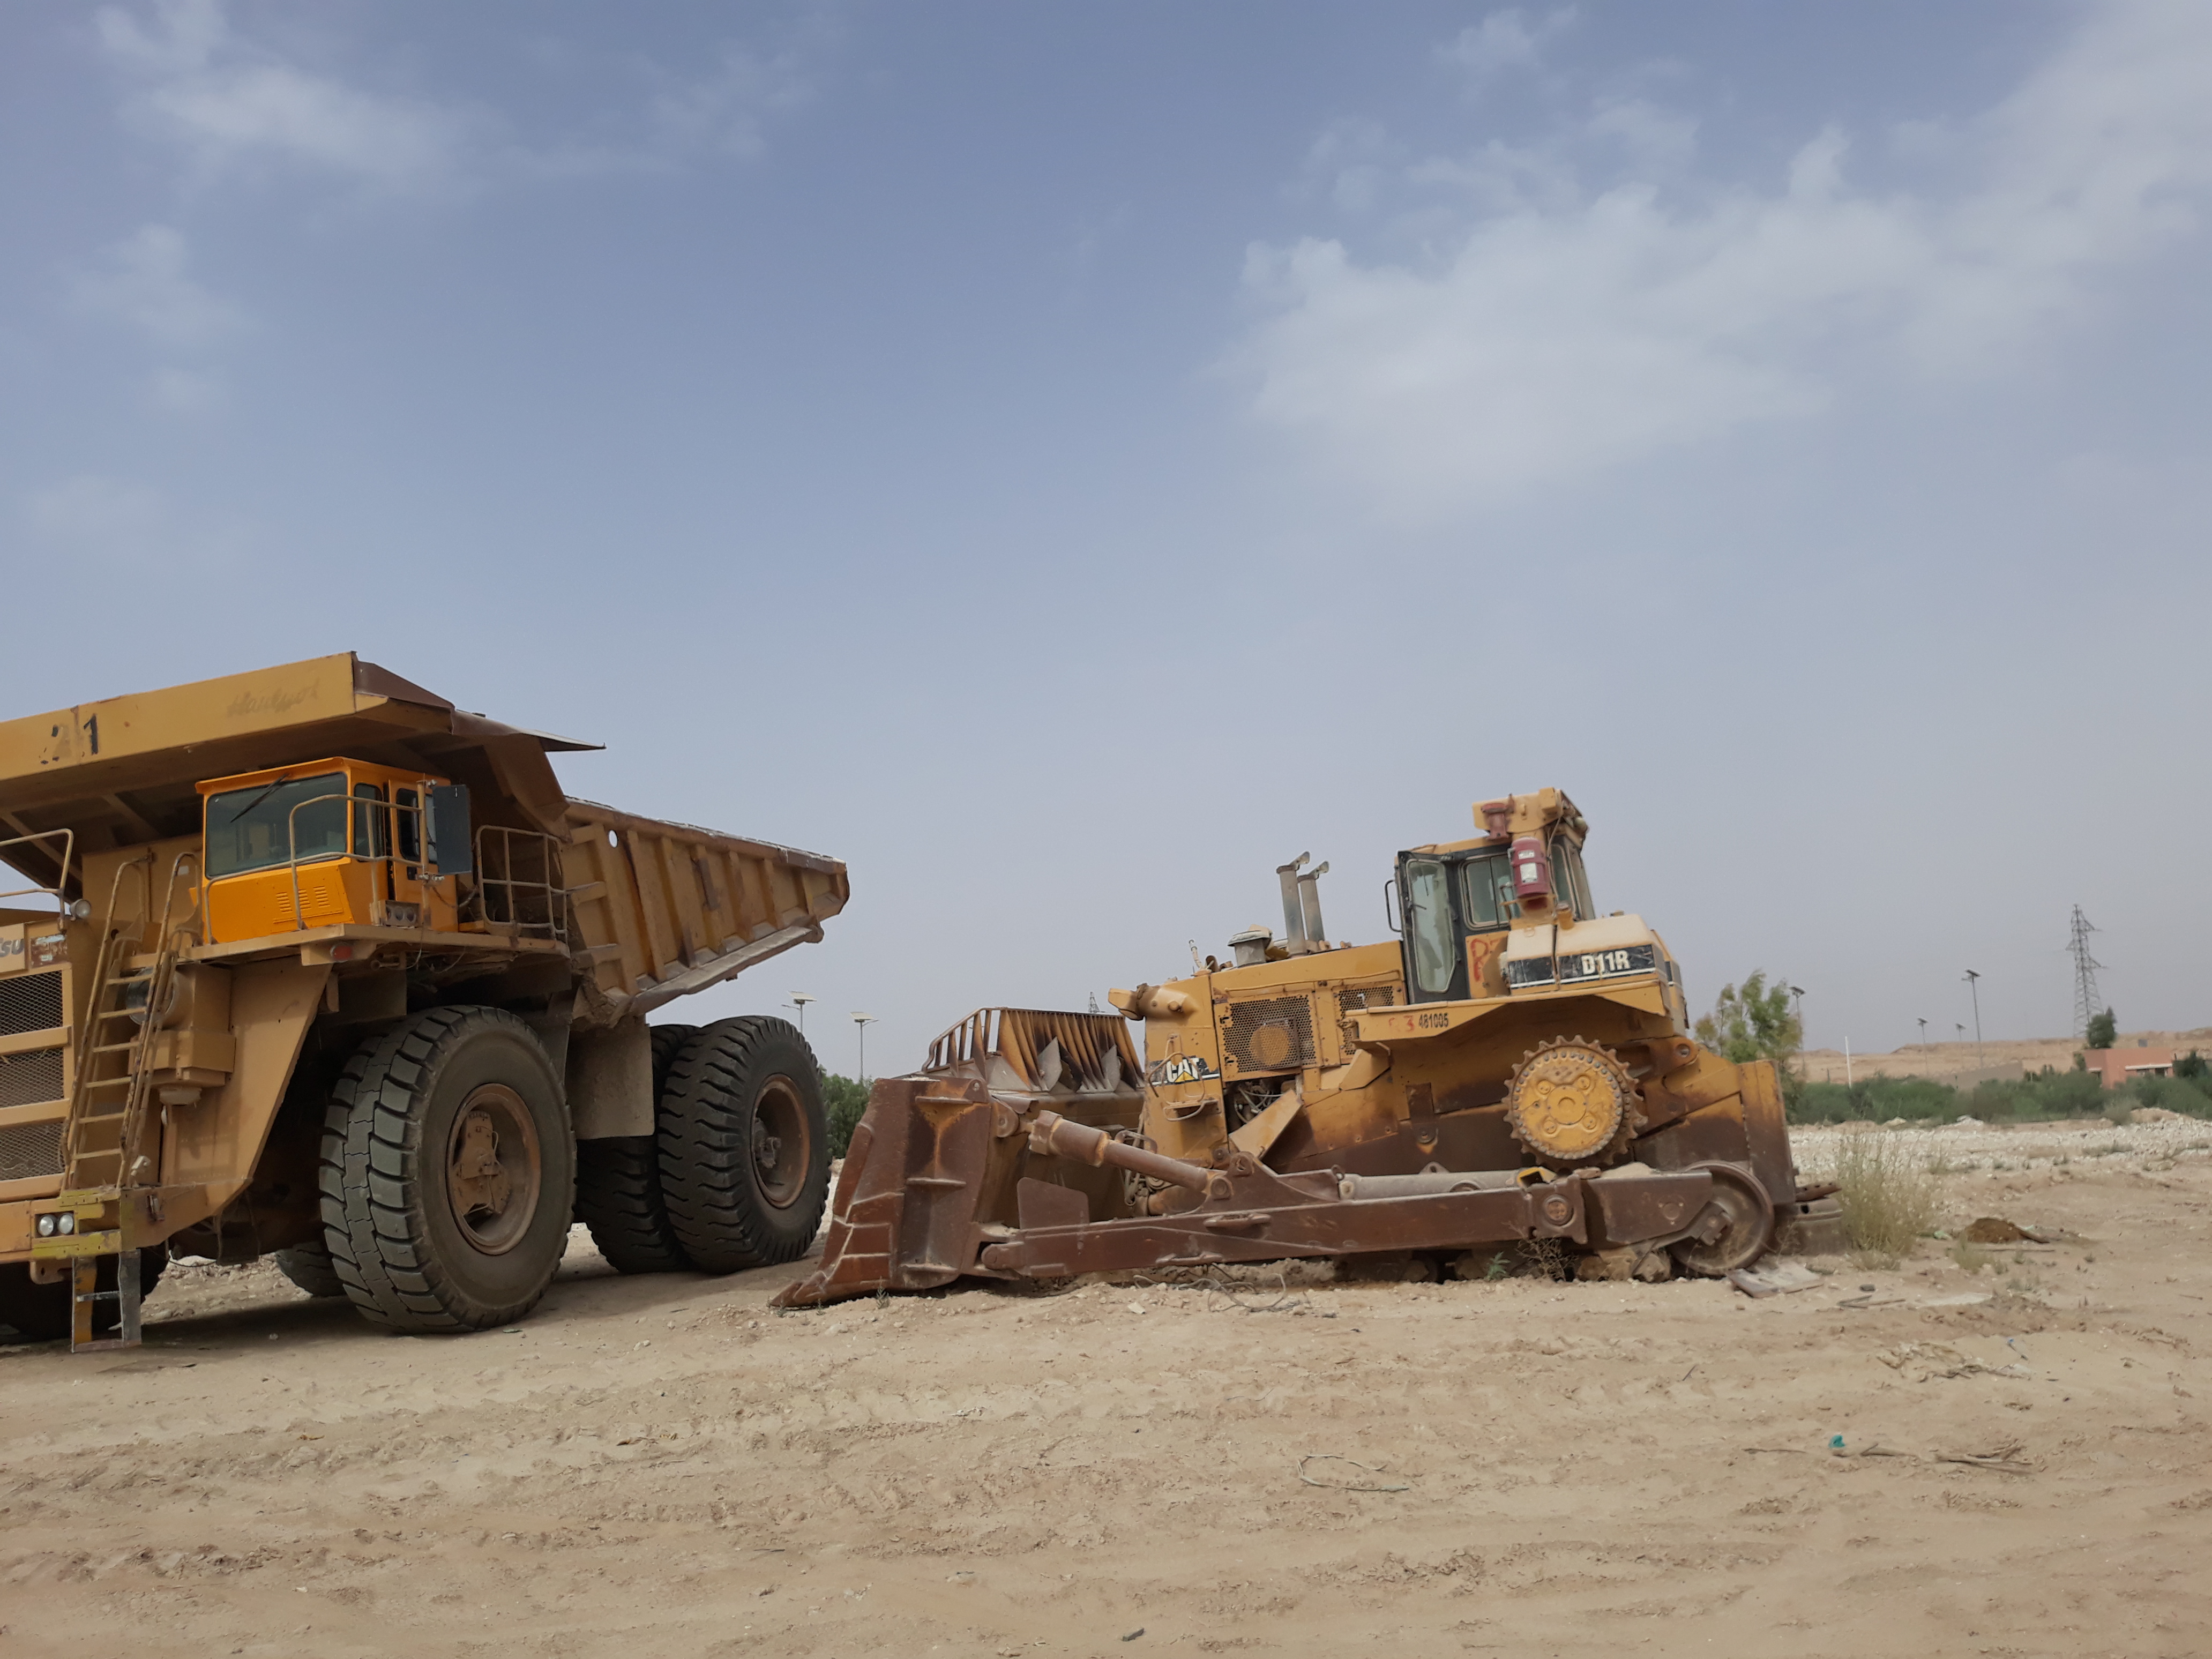bulldozer: (808, 779, 1850, 1333)
camion: (0, 660, 857, 1323)
